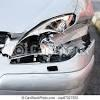Headlight-Damage: (0, 12, 99, 66)
